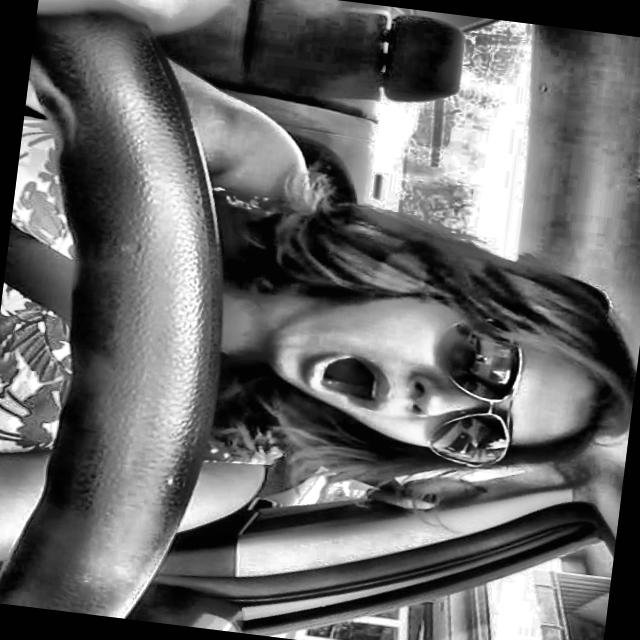open_mouth: (294, 337, 397, 431)
